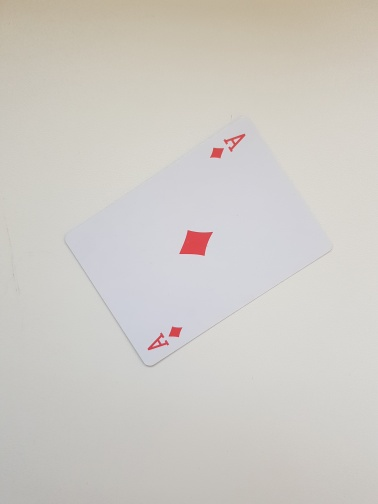ace: (61, 111, 335, 368)
